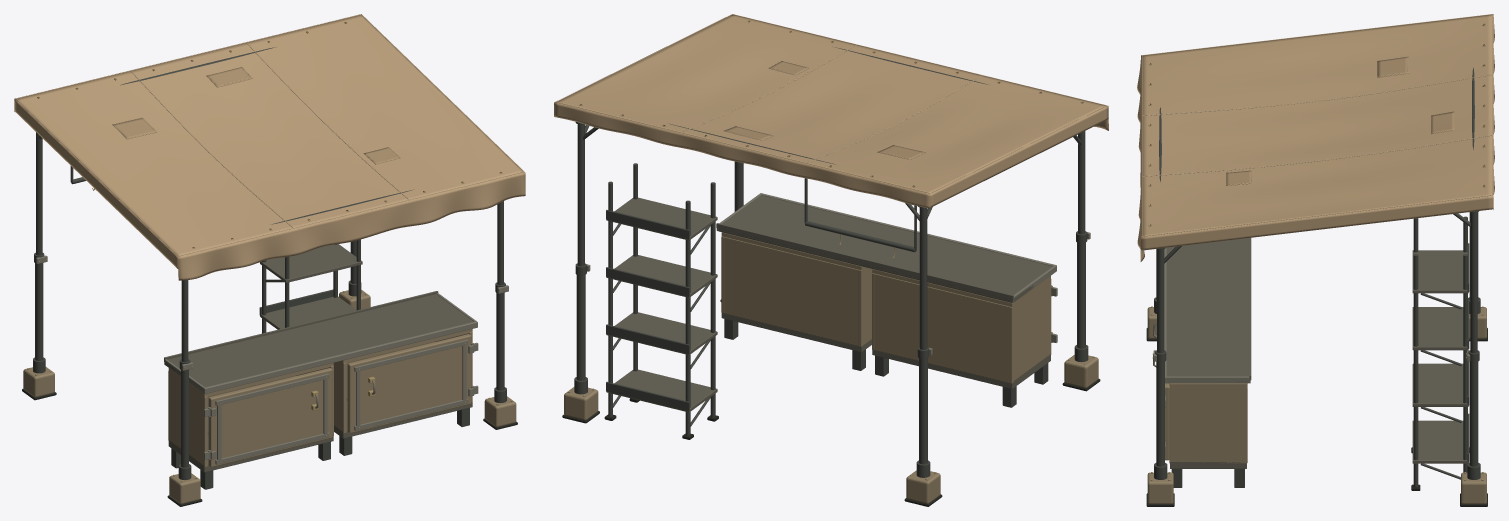
Rendered from karaveen-artisan-stall-v01.fbx.
3 renders of one model, left to right at view 1: azimuth 30°, elevation 25°; view 2: azimuth 150°, elevation 25°; view 3: azimuth 270°, elevation 25°, orthographic. The views are drawn at different scales.
Visible parts, largest first — view 1: KA_Tensioned_sand_canvas, KA_Service_counter_top, KA_Front_sewn_valance, KA_Cupboard_door_R, KA_Cupboard_door_L, KA_Cupboard_side_L-1.26, KA_Side_sewn_valance_-1.65, KA_Empty_display_shelf_1, KA_Counter_front_edge, KA_Reinforced_canopy_seams, KA_Empty_display_shelf_0, KA_Counter_rear_lip (+19 smaller); view 2: KA_Tensioned_sand_canvas, KA_Service_counter_top, KA_Cupboard_back_R, KA_Cupboard_back_L, KA_Rear_sewn_valance, KA_Cupboard_side_L-1.26, KA_Side_sewn_valance_-1.65, KA_Reinforced_canopy_seams, KA_Empty_display_shelf_3, KA_Empty_display_shelf_0, KA_Empty_display_shelf_1, KA_Empty_display_shelf_2 (+25 smaller); view 3: KA_Tensioned_sand_canvas, KA_Service_counter_top, KA_Cupboard_side_R1.26, KA_Side_sewn_valance_1.65, KA_Reinforced_canopy_seams, KA_Empty_display_shelf_3, KA_Empty_display_shelf_2, KA_Empty_display_shelf_0, KA_Empty_display_shelf_1, KA_Shelf_upright_0.34-0.19, KA_Upper_upright_11, KA_Lower_upright_11 (+12 smaller).
Boxes of the visible parts, <box> form: KA_Tensioned_sand_canvas: <box>14,14,524,257</box>; KA_Service_counter_top: <box>164,294,473,388</box>; KA_Front_sewn_valance: <box>178,172,525,280</box>; KA_Cupboard_door_R: <box>347,334,471,433</box>; KA_Cupboard_door_L: <box>208,368,332,467</box>; KA_Cupboard_side_L-1.26: <box>168,371,207,467</box>; KA_Side_sewn_valance_-1.65: <box>14,99,178,268</box>; KA_Empty_display_shelf_1: <box>260,244,362,282</box>; KA_Counter_front_edge: <box>203,321,477,393</box>; KA_Reinforced_canopy_seams: <box>16,14,523,256</box>; KA_Empty_display_shelf_0: <box>260,296,356,329</box>; KA_Counter_rear_lip: <box>164,291,438,361</box>; KA_Tensioned_sand_canvas: <box>554,14,1107,194</box>; KA_Service_counter_top: <box>718,195,1052,302</box>; KA_Cupboard_back_R: <box>724,237,862,345</box>; KA_Cupboard_back_L: <box>875,274,1013,382</box>; KA_Rear_sewn_valance: <box>554,102,930,208</box>; KA_Cupboard_side_L-1.26: <box>1009,279,1051,383</box>; KA_Side_sewn_valance_-1.65: <box>930,106,1108,207</box>; KA_Reinforced_canopy_seams: <box>556,14,1106,193</box>; KA_Empty_display_shelf_3: <box>606,197,717,240</box>; KA_Empty_display_shelf_0: <box>606,369,717,412</box>; KA_Empty_display_shelf_1: <box>606,312,717,354</box>; KA_Empty_display_shelf_2: <box>606,255,717,297</box>; KA_Tensioned_sand_canvas: <box>1141,14,1493,237</box>; KA_Service_counter_top: <box>1166,238,1249,382</box>; KA_Cupboard_side_R1.26: <box>1169,386,1247,463</box>; KA_Side_sewn_valance_1.65: <box>1141,196,1493,250</box>; KA_Reinforced_canopy_seams: <box>1142,14,1492,236</box>; KA_Empty_display_shelf_3: <box>1412,250,1468,293</box>; KA_Empty_display_shelf_2: <box>1412,307,1468,350</box>; KA_Empty_display_shelf_0: <box>1412,420,1468,463</box>; KA_Empty_display_shelf_1: <box>1412,363,1468,406</box>; KA_Shelf_upright_0.34-0.19: <box>1413,254,1418,487</box>; KA_Upper_upright_11: <box>1470,212,1477,353</box>; KA_Lower_upright_11: <box>1469,362,1478,466</box>.
Size of what is drawn, in the model's own units: 330 by 266 by 274.
